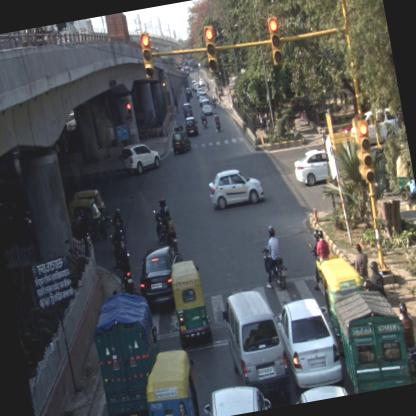car: (219, 285, 292, 390), (275, 294, 344, 392), (134, 244, 190, 316), (207, 162, 265, 212), (198, 379, 271, 415), (291, 146, 333, 188), (119, 140, 162, 176), (170, 129, 192, 155), (183, 114, 200, 138), (182, 101, 194, 119), (201, 98, 213, 116), (184, 86, 192, 98), (198, 78, 204, 84)
motorcycle: (253, 224, 291, 290), (302, 226, 336, 290), (397, 301, 415, 383), (158, 208, 182, 260), (150, 196, 176, 242), (114, 246, 135, 292), (212, 111, 220, 132), (210, 93, 218, 110), (200, 110, 207, 127)
truck: (87, 288, 173, 415), (332, 282, 412, 394)
